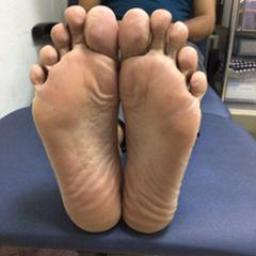Plantar View -Both Feet-: (24, 2, 218, 242)
